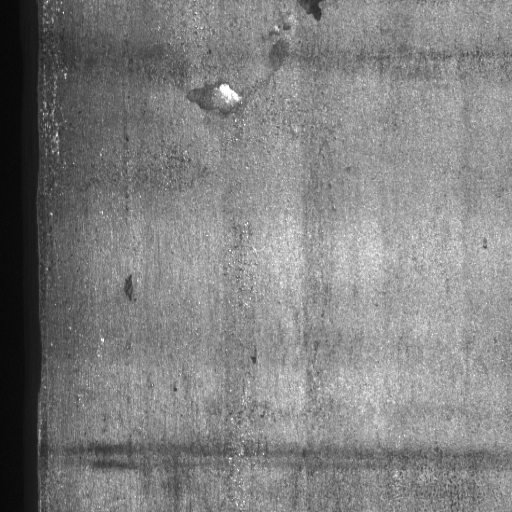aokeng: (184, 77, 246, 120)
